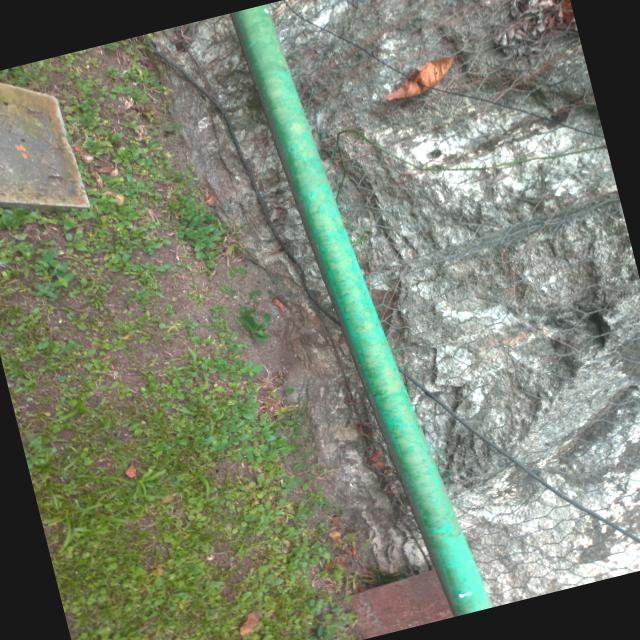gas: (236, 9, 492, 615)
